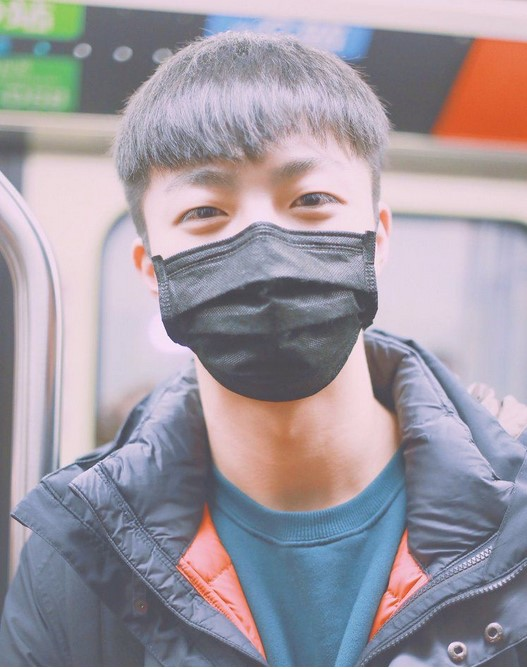face_with_mask: (126, 35, 399, 407)
